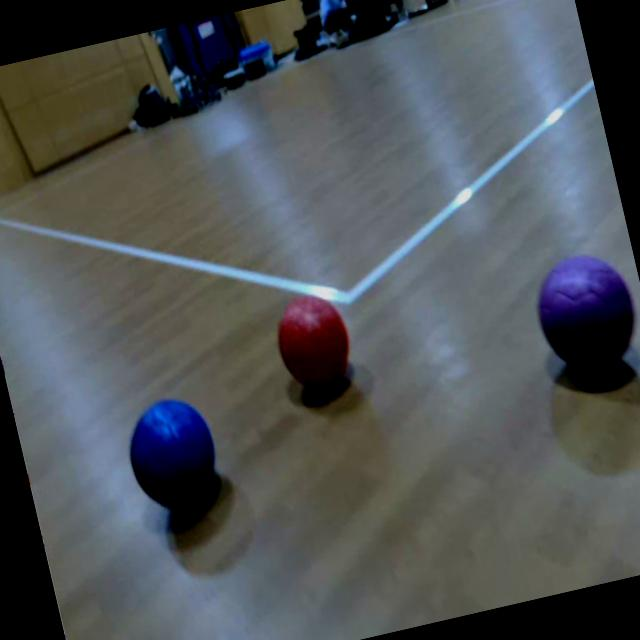blue_ball: (120, 388, 226, 513)
purple_ball: (528, 242, 640, 384)
red_ball: (270, 286, 360, 398)
